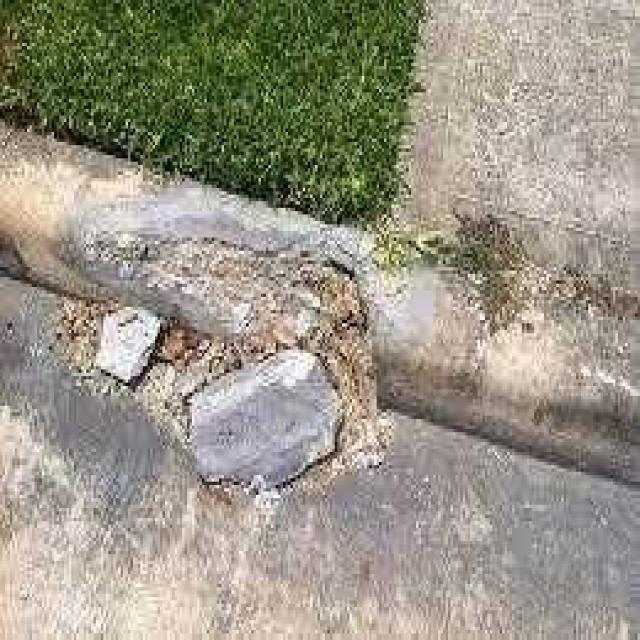curb: (2, 134, 381, 493), (365, 235, 640, 480)
